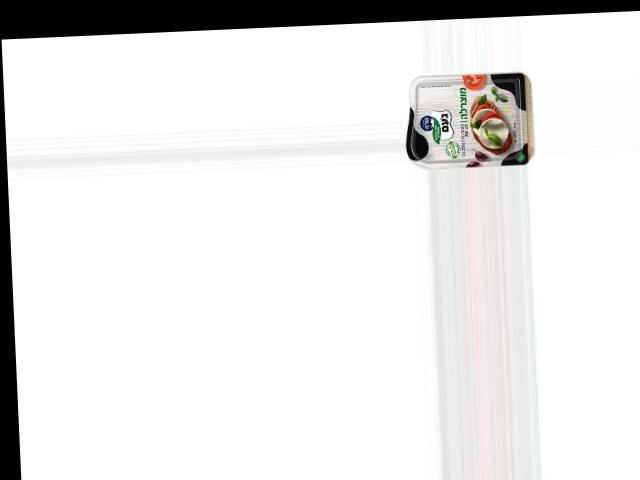cheese: (405, 70, 529, 169)
